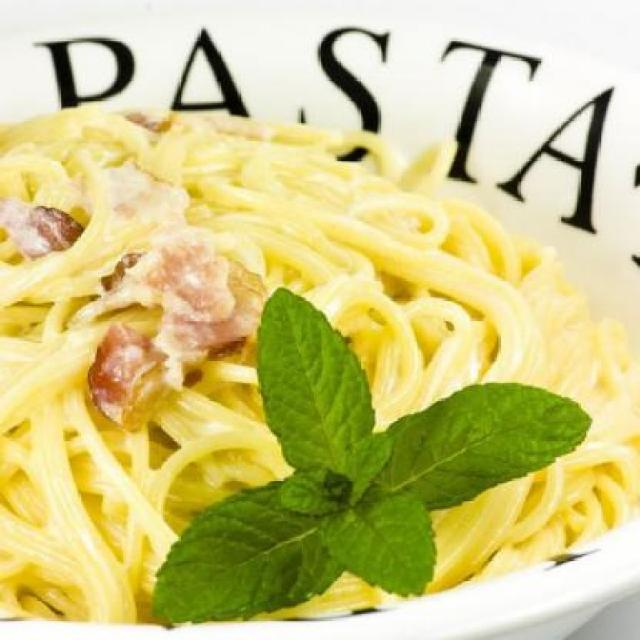Pasta with carbonara sauce: (1, 134, 632, 616)
